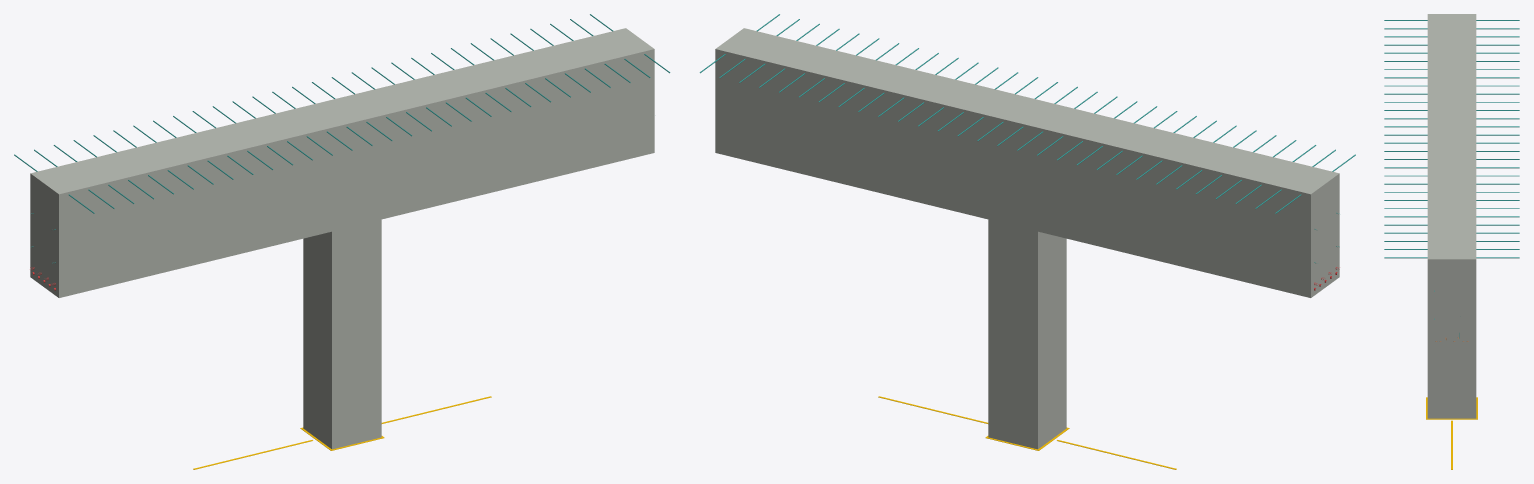
File: unterzug-441-vorort17.glb
3 renders of one model, left to right at view 1: azimuth 30°, elevation 25°; view 2: azimuth 150°, elevation 25°; view 3: azimuth 270°, elevation 25°, orthographic. The views are drawn at different scales.
Parts seen in each view (by area): view 1: Beton; view 2: Beton; view 3: Beton, Pos_30_geschaetzt_29, Pos_30_geschaetzt_30, Pos_30_geschaetzt_31, Pos_30_geschaetzt_32, Pos_30_geschaetzt_35, Pos_30_geschaetzt_36, Pos_30_geschaetzt_37, Pos_30_geschaetzt_40, Pos_30_geschaetzt_41, Pos_30_geschaetzt_42, Pos_30_geschaetzt_43 (+7 smaller).
Part boxes in pixels (x1,y1,x2,y2): Beton: (30, 28, 654, 449); Beton: (715, 28, 1339, 449); Beton: (1427, 14, 1476, 418); Pos_30_geschaetzt_29: (1384, 28, 1519, 29); Pos_30_geschaetzt_30: (1384, 36, 1519, 37); Pos_30_geschaetzt_31: (1384, 44, 1519, 45); Pos_30_geschaetzt_32: (1384, 52, 1519, 53); Pos_30_geschaetzt_35: (1384, 77, 1519, 78); Pos_30_geschaetzt_36: (1384, 85, 1519, 86); Pos_30_geschaetzt_37: (1384, 93, 1519, 94); Pos_30_geschaetzt_40: (1384, 118, 1519, 119); Pos_30_geschaetzt_41: (1384, 126, 1519, 127); Pos_30_geschaetzt_42: (1384, 134, 1519, 135); Pos_30_geschaetzt_43: (1384, 142, 1519, 143).
Size of the model in its own units: 6.1 by 3.1 by 1.4.
